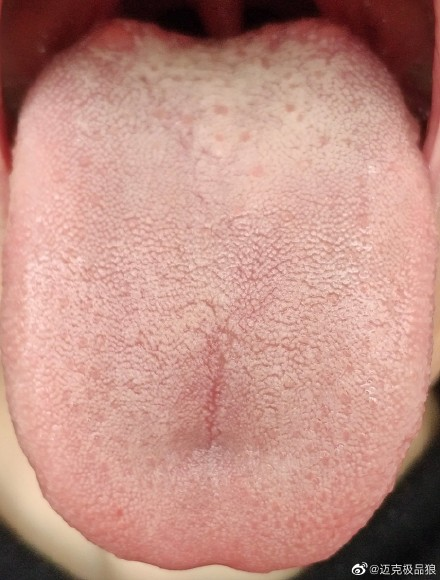baitaishe: (5, 16, 440, 573)
hongdianshe: (282, 100, 298, 116)
piweiao: (143, 344, 282, 483)
